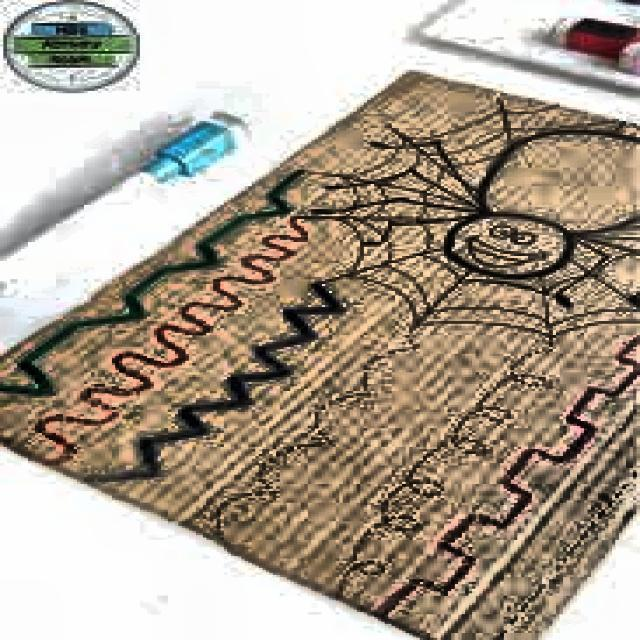cardboard: (0, 68, 637, 638)
